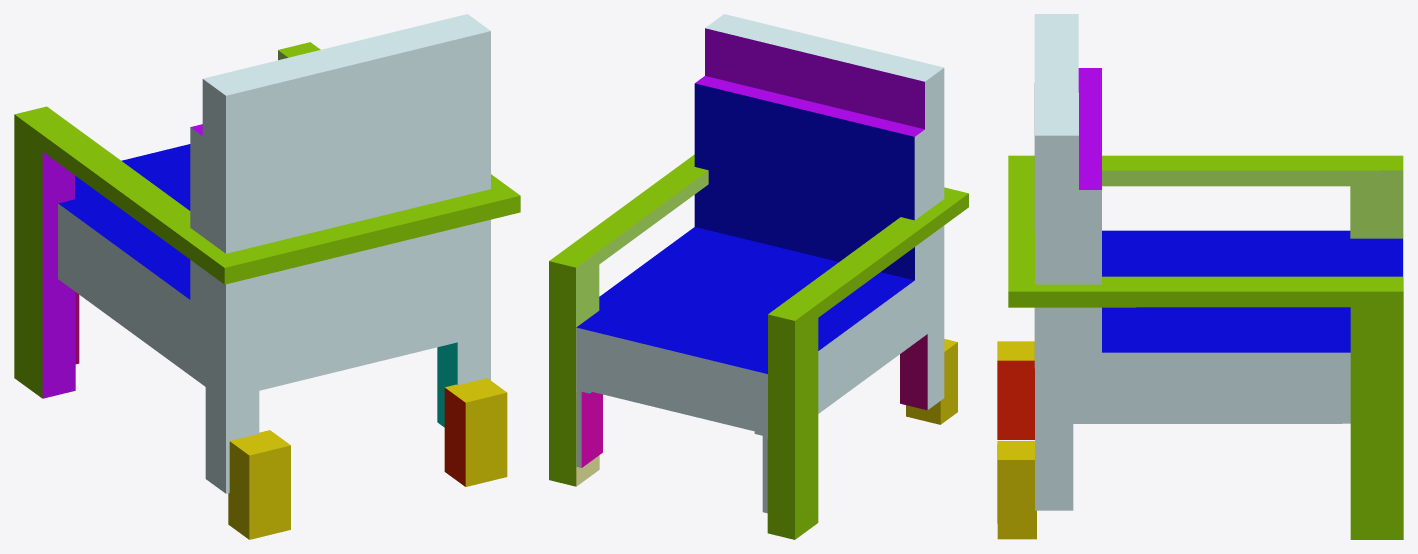
File: 03001627_chair_126.glb
The picture shows the model from 3 angles, left to right: view 1: azimuth 30°, elevation 25°; view 2: azimuth 150°, elevation 25°; view 3: azimuth 270°, elevation 25°; orthographic projection. The views are drawn at different scales.
Visible parts, largest first — view 1: Plane; view 2: Plane; view 3: Plane.
Part boxes in pixels (x1=…): Plane: x1=14, y1=14, x2=520, y2=539; Plane: x1=549, y1=14, x2=968, y2=539; Plane: x1=997, y1=14, x2=1403, y2=539.
Bounding box in the file's own units: 0.9775 × 1.36 × 1.23.
